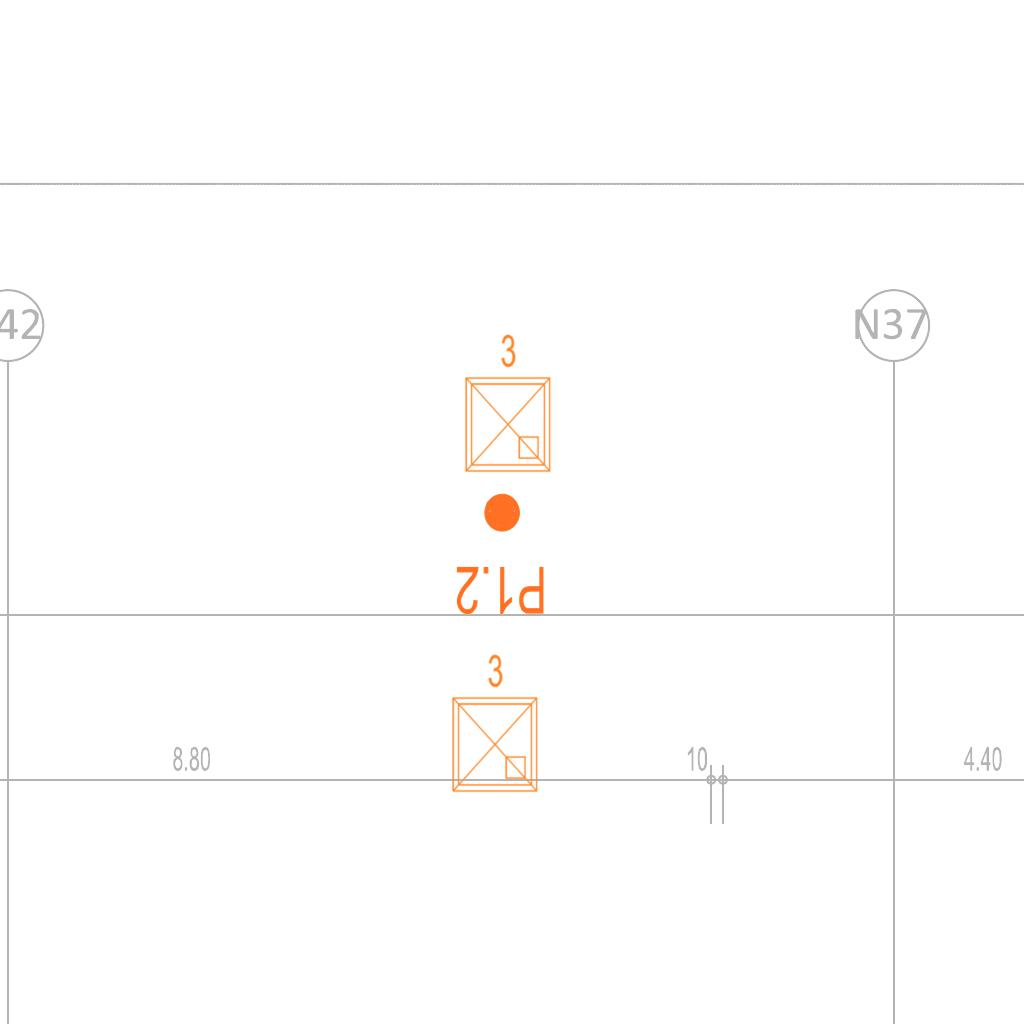Downlight_LED_Einbauleuchten_Flur: (454, 490, 547, 618)
Einbaudownlights_LED_Konferenzraeume: (454, 329, 558, 479), (441, 649, 545, 799)
